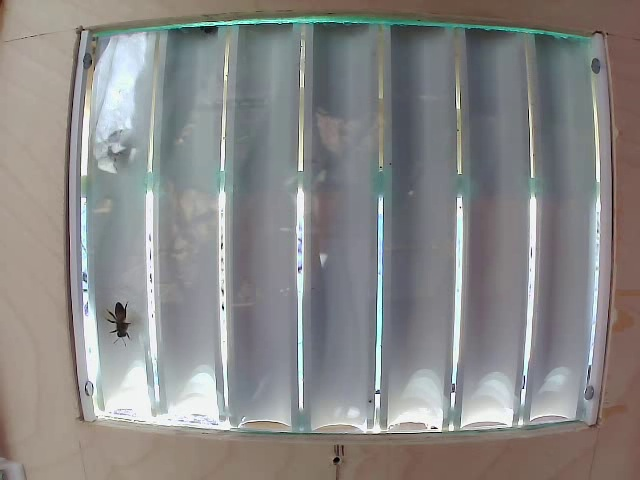bee: (96, 290, 143, 343)
